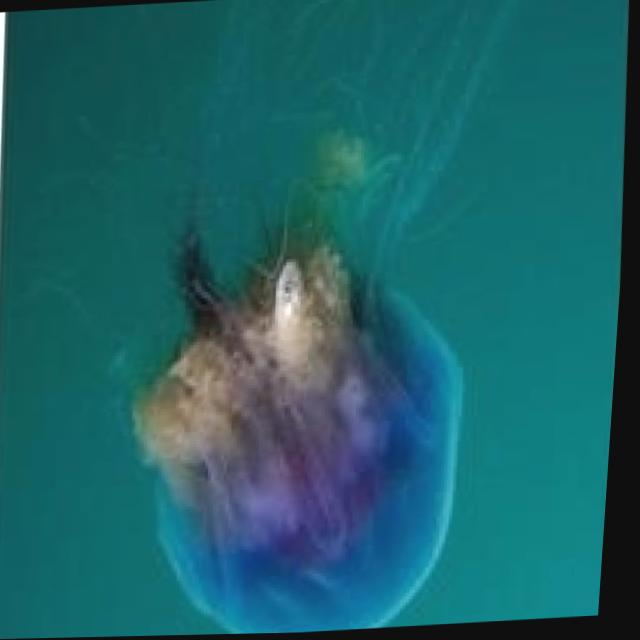Jellyfish: (101, 0, 545, 638)
